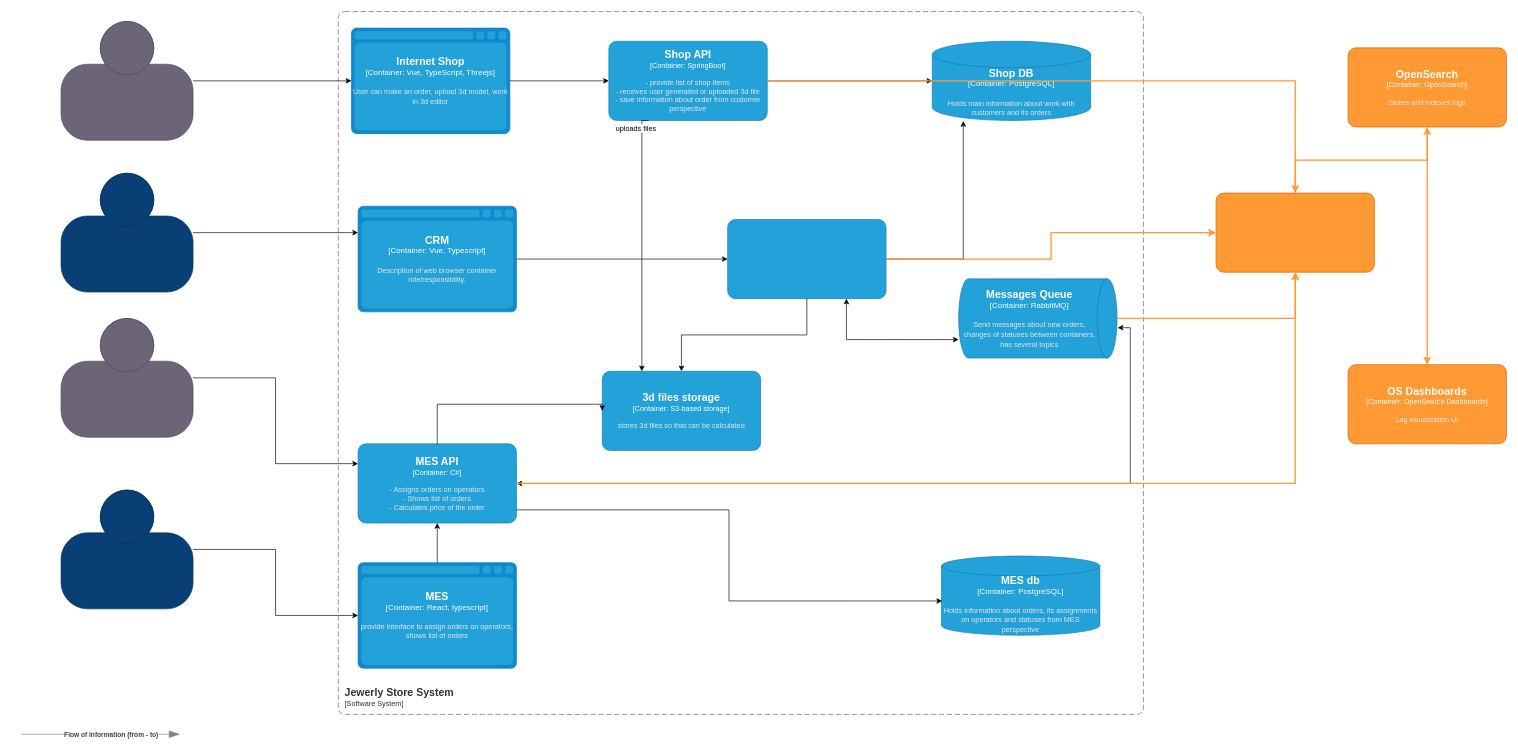
Image size: 1518x756. Some labels were removed from this diagram. The centre of each missing label's shape, as x and y in pixels:
"API user [Person] Description of external person." belongs at [126,377].
"CRM API [Container: SpringBoot] Description of container role/responsibility." belongs at [806,259].
"Customer [Person] Description of external person." belongs at [126,80].
"Log Shipper [Container: Fluent-bit] Collects and ships logs" belongs at [1294,232].
"Operator [Person] Takes order in work, manufactures jewerly" belongs at [126,549].
"Seller [Person] Operates with order, confirms manufacturing for the user" belongs at [126,232].
